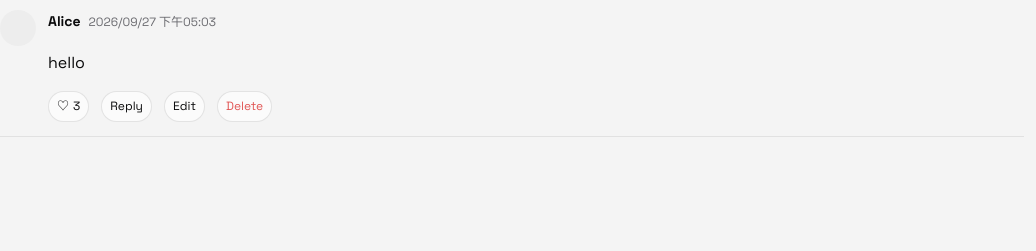
CommentItem (Stage B) › click edit button → 顯示 edit form 並 prefill content
Click the button with test id "comment-edit-btn": (184, 107) [164, 91, 205, 122]
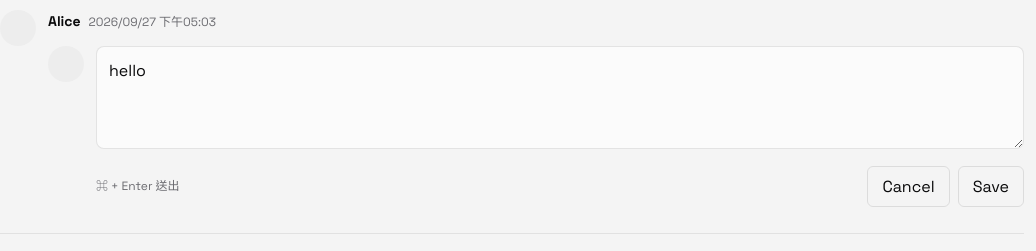
expect the form with test id "comment-edit-form" is shown: met
expect the text box holds "hello": met, box [96, 46, 1024, 149]
